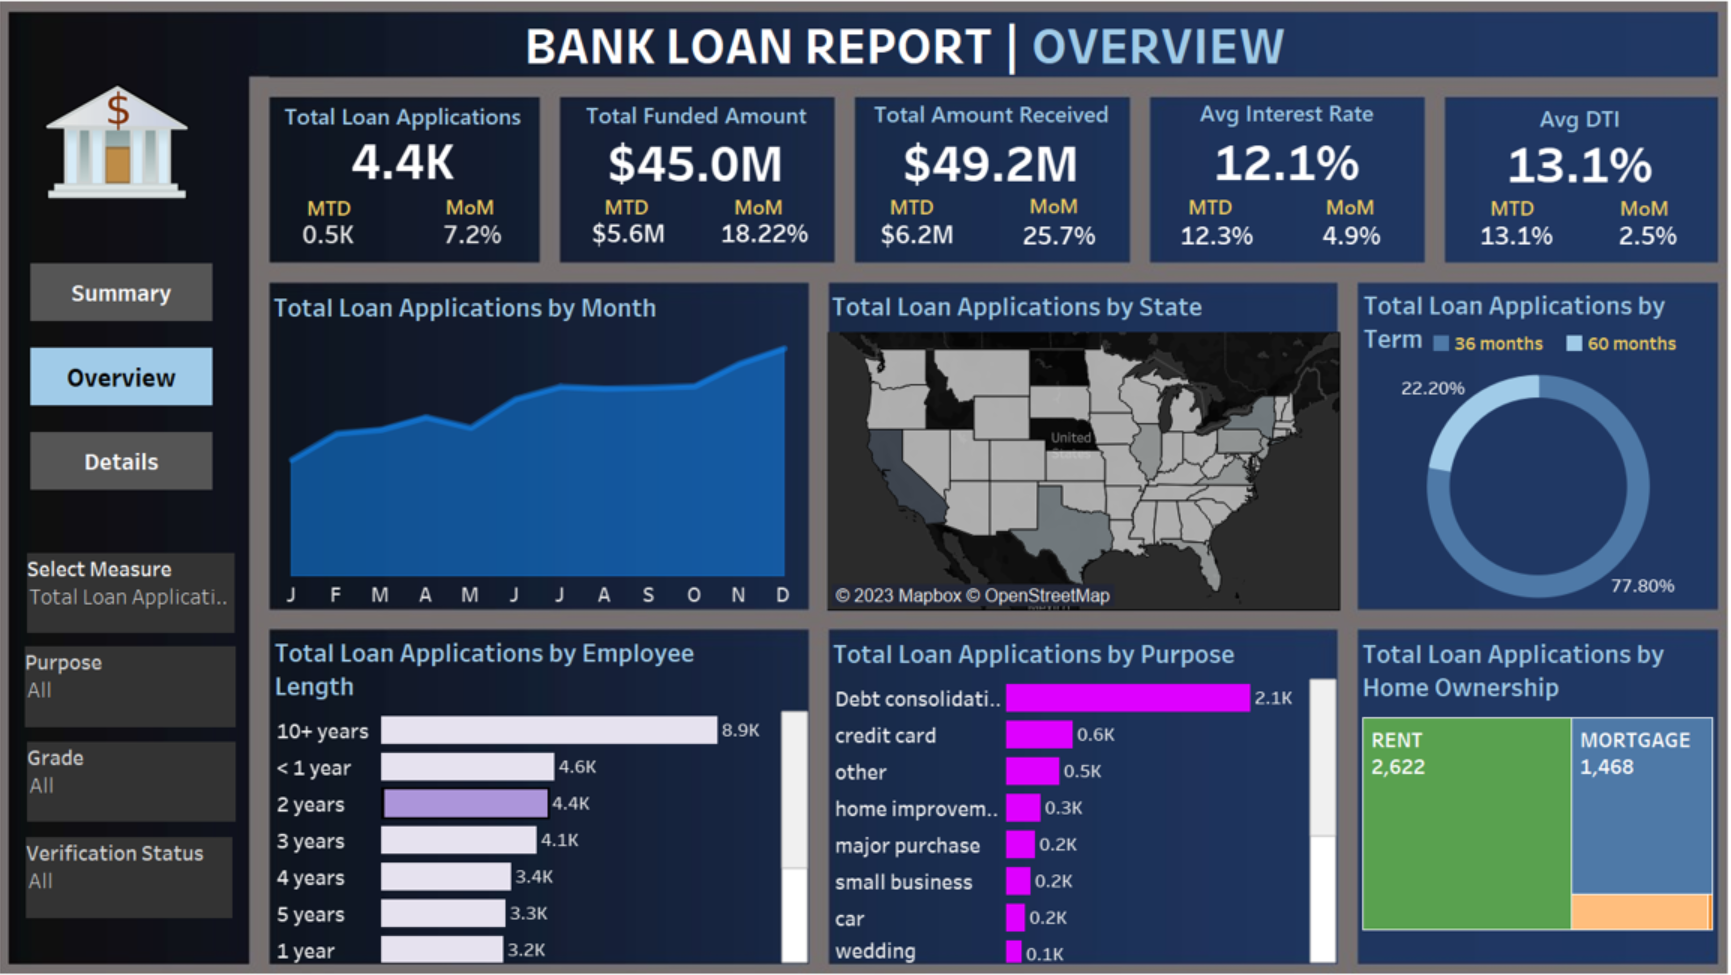

The dashboard page shown, as its layout file describes it:
{"tool":"tableau","page":{"name":"OVERVIEW","canvas":[1600,900],"ordinal":1},"visuals":[{"type":"image","param":"Image/Tableau Background 2.jpg","box":[8,8,1584,884]},{"type":"text","box":[490,12,694,77]},{"type":"image","param":"Image/Bank-PNG-Free-Download 1.png","box":[60,79,132,119]},{"type":"worksheet","title":"Avg Interest Rate","mark":"Automatic","box":[1058,92,246,85]},{"type":"worksheet","title":"Total Amount Received","mark":"Automatic","box":[791,93,248,85]},{"type":"worksheet","title":"Total Funded Amount","mark":"Automatic","box":[525,94,248,83]},{"type":"worksheet","title":"Total Loan Applications","mark":"Automatic","box":[263,95,243,78]},{"type":"worksheet","title":"Avg DTI","mark":"Automatic","box":[1323,97,244,79]},{"type":"text","box":[921,181,100,30]},{"type":"text","box":[395,182,100,30]},{"type":"text","box":[536,182,100,30]},{"type":"text","box":[655,182,100,30]},{"type":"text","box":[793,182,100,30]},{"type":"text","box":[1062,182,100,30]},{"type":"text","box":[1188,182,100,30]},{"type":"text","box":[268,183,100,30]},{"type":"text","box":[1334,183,100,30]},{"type":"text","box":[1453,183,100,30]},{"type":"worksheet","title":"MTD Avg DTI","mark":"Automatic","box":[1335,201,107,43]},{"type":"worksheet","title":"MoM Avg DTI","mark":"Automatic","box":[1453,201,107,44]},{"type":"worksheet","title":"MTD Total Loan Applications","mark":"Automatic","box":[276,203,83,37]},{"type":"worksheet","title":"MoM Total Loan Applications","mark":"Automatic","box":[402,203,91,37]},{"type":"worksheet","title":"MTD Total Amount Received","mark":"Automatic","box":[805,203,87,37]},{"type":"worksheet","title":"MTD Total Funded Amount","mark":"Automatic","box":[542,205,94,31]},{"type":"worksheet","title":"MTD Avg Interest Rate","mark":"Automatic","box":[1072,205,92,35]},{"type":"worksheet","title":"MoM Total Funded Amount","mark":"Automatic","box":[665,206,91,29]},{"type":"worksheet","title":"MoM Total Amount Received","mark":"Automatic","box":[934,206,84,34]},{"type":"worksheet","title":"MoM Avg Interest Rate","mark":"Automatic","box":[1199,207,81,32]},{"type":"dashboard-object","box":[49,248,164,52]},{"type":"worksheet","title":"Term","mark":"Pie","rows":["Calculation_1534883084849037348","Calculation_1534883084849057830"],"box":[1246,264,323,295]},{"type":"worksheet","title":"State","mark":"Multipolygon","box":[767,265,461,295]},{"type":"worksheet","title":"Month","mark":"Area","rows":["Calculation_1534883084818317346","Calculation_1534883084818317346"],"cols":["issue_date"],"box":[264,266,485,293]},{"type":"legend","title":"Term","param":"[federated.1sxqoc00v92h8717uxid810dnazq].[none:term:nk]","box":[1309,309,252,25]},{"type":"dashboard-object","box":[49,324,164,52]},{"type":"dashboard-object","box":[49,400,164,52]},{"type":"parameter","param":"[Parameters].[Parameter 1]","box":[46,509,187,72]},{"type":"worksheet","title":"Emp Length","mark":"Automatic","rows":["emp_length"],"cols":["Calculation_1534883084818317346"],"box":[265,577,485,301]},{"type":"worksheet","title":"Purpose","mark":"Automatic","rows":["purpose"],"cols":["Calculation_1534883084818317346"],"box":[768,578,458,300]},{"type":"worksheet","title":"Home Own","mark":"Automatic","box":[1245,578,323,300]},{"type":"filter","title":"Avg DTI","param":"[federated.1sxqoc00v92h8717uxid810dnazq].[none:purpose:nk]","box":[44,593,190,73]},{"type":"filter","title":"Avg DTI","param":"[federated.1sxqoc00v92h8717uxid810dnazq].[none:grade:nk]","box":[46,679,188,72]},{"type":"filter","title":"Avg DTI","param":"[federated.1sxqoc00v92h8717uxid810dnazq].[none:verification_status:nk]","box":[45,765,186,73]}]}

Visuals, with their boxes in screenshot pixels (x1, y1, x2, y2), scaled from the page's 1600x900 canvas onto the 1731x975 screenshot:
image: locate(9, 9, 1722, 966)
text: locate(530, 13, 1281, 96)
image: locate(65, 86, 208, 214)
"Avg Interest Rate" worksheet: locate(1145, 100, 1411, 192)
"Total Amount Received" worksheet: locate(856, 101, 1124, 193)
"Total Funded Amount" worksheet: locate(568, 102, 836, 192)
"Total Loan Applications" worksheet: locate(285, 103, 547, 187)
"Avg DTI" worksheet: locate(1431, 105, 1695, 191)
text: locate(996, 196, 1105, 229)
text: locate(427, 197, 536, 230)
text: locate(580, 197, 688, 230)
text: locate(709, 197, 817, 230)
text: locate(858, 197, 966, 230)
text: locate(1149, 197, 1257, 230)
text: locate(1285, 197, 1393, 230)
text: locate(290, 198, 398, 231)
text: locate(1443, 198, 1551, 231)
text: locate(1572, 198, 1680, 231)
"MTD Avg DTI" worksheet: locate(1444, 218, 1560, 264)
"MoM Avg DTI" worksheet: locate(1572, 218, 1688, 265)
"MTD Total Loan Applications" worksheet: locate(299, 220, 388, 260)
"MoM Total Loan Applications" worksheet: locate(435, 220, 533, 260)
"MTD Total Amount Received" worksheet: locate(871, 220, 965, 260)
"MTD Total Funded Amount" worksheet: locate(586, 222, 688, 256)
"MTD Avg Interest Rate" worksheet: locate(1160, 222, 1259, 260)
"MoM Total Funded Amount" worksheet: locate(719, 223, 818, 255)
"MoM Total Amount Received" worksheet: locate(1010, 223, 1101, 260)
"MoM Avg Interest Rate" worksheet: locate(1297, 224, 1385, 259)
dashboard-object: locate(53, 269, 230, 325)
"Term" worksheet (Pie marks): locate(1348, 286, 1697, 606)
"State" worksheet (Multipolygon marks): locate(830, 287, 1329, 607)
"Month" worksheet (Area marks): locate(286, 288, 810, 606)
"Term" legend: locate(1416, 335, 1689, 362)
dashboard-object: locate(53, 351, 230, 407)
dashboard-object: locate(53, 433, 230, 490)
parameter: locate(50, 551, 252, 629)
"Emp Length" worksheet: locate(287, 625, 811, 951)
"Purpose" worksheet: locate(831, 626, 1326, 951)
"Home Own" worksheet: locate(1347, 626, 1696, 951)
"Avg DTI" filter: locate(48, 642, 253, 722)
"Avg DTI" filter: locate(50, 736, 253, 814)
"Avg DTI" filter: locate(49, 829, 250, 908)
